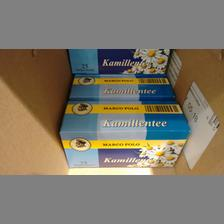Tee: (55, 99, 191, 167), (68, 73, 176, 99), (68, 48, 168, 72)
